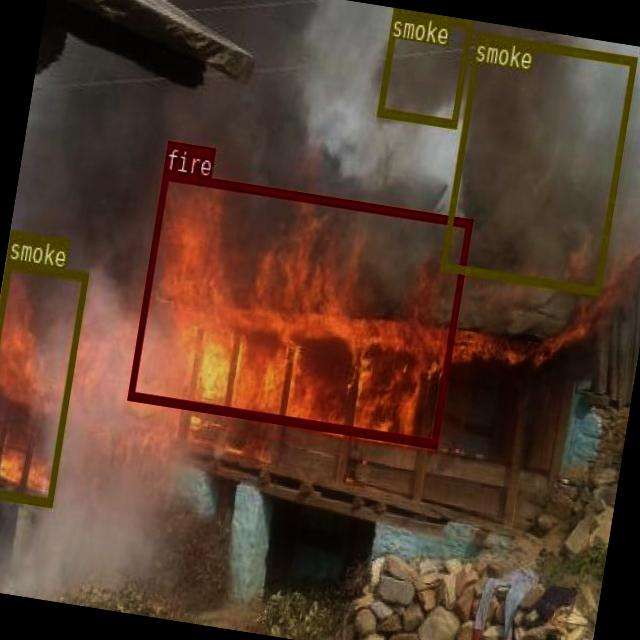fire: (127, 170, 472, 446)
smoke: (438, 32, 636, 294), (0, 259, 88, 506), (377, 8, 472, 128)
